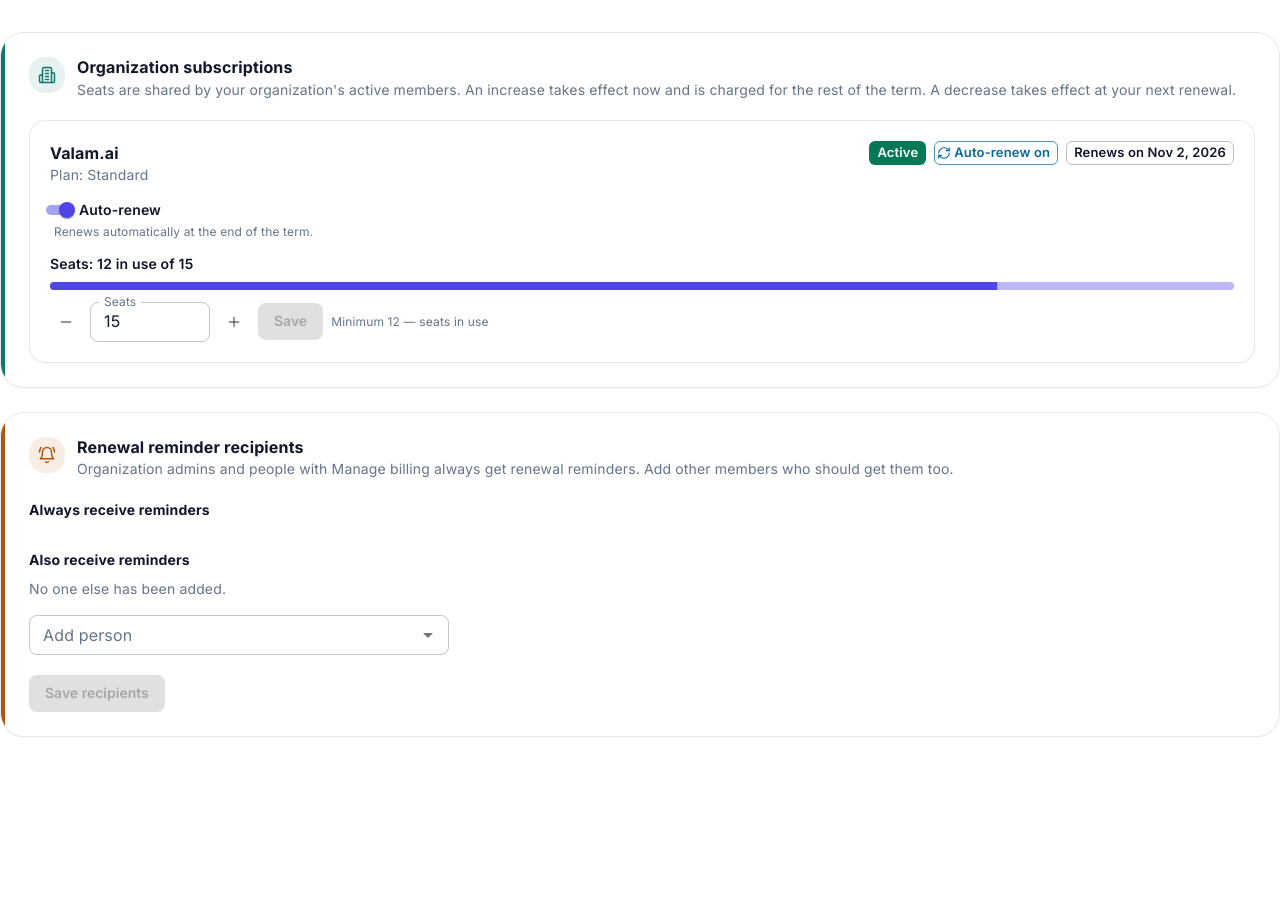
Test: OrganizationSubscriptionsSection › shows seats in use and an estimate for an increase, then the result with an invoice link
Expected: the text "Seats: 12 in use of 15" is shown, top-left (50, 254), bottom-right (193, 272)
Expected: the text "Auto-renew on" is shown, top-left (947, 143), bottom-right (1057, 163)
What coordinates should you click on to do the following:
click the button named "Add a seat"
I would click on:
 (234, 322)
Its box is top-left (218, 306), bottom-right (250, 338).
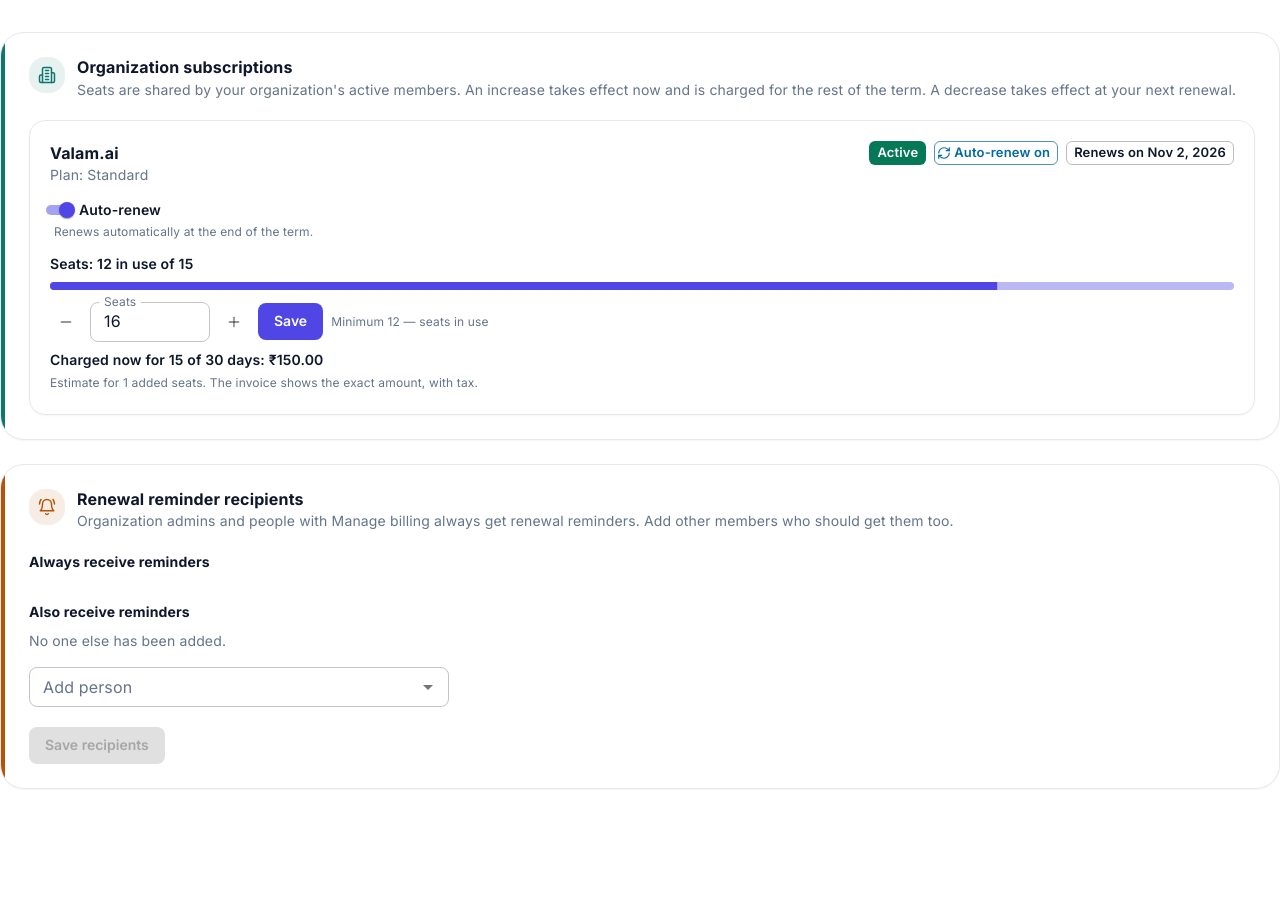
What coordinates should you click on to do the following:
click the button named "Add a seat"
I would click on:
 (234, 322)
Its box is top-left (218, 306), bottom-right (250, 338).
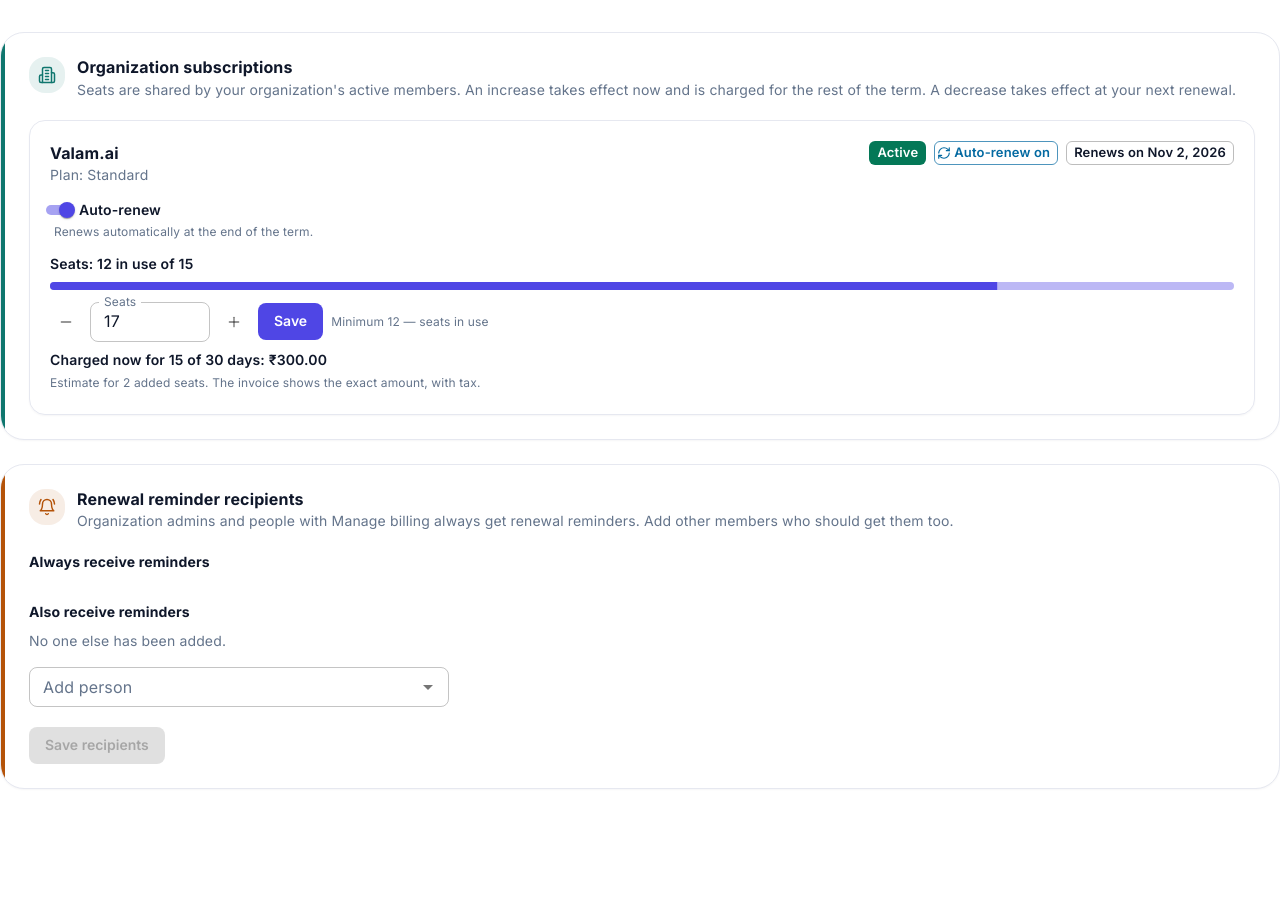
Expected: the text "Charged now for 15 of 30 days: ₹300.00" is shown, top-left (50, 350), bottom-right (327, 368)
What coordinates should you click on to do the following:
click the button "Save"
I would click on:
 (291, 322)
Its box is top-left (258, 303), bottom-right (323, 340).
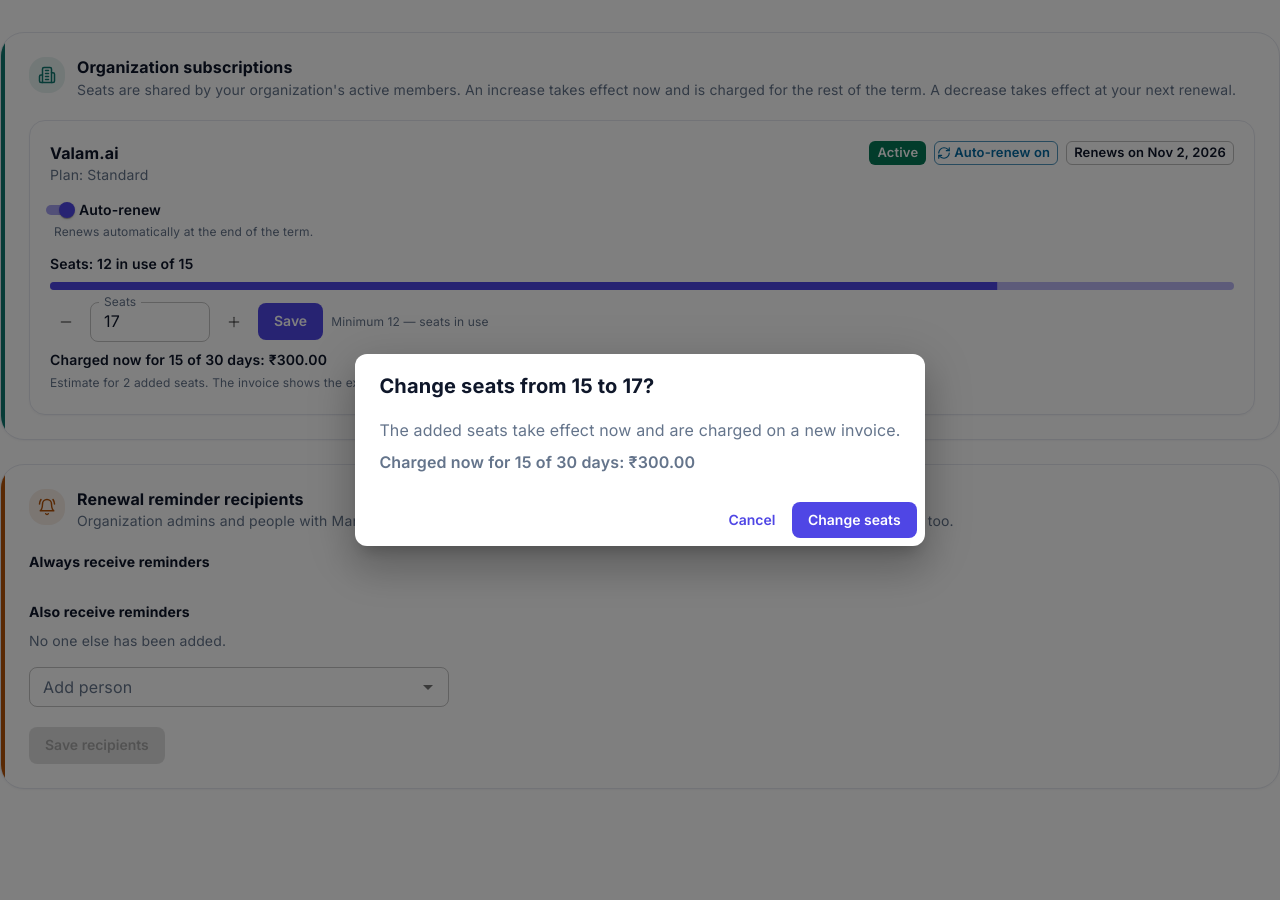
Expected: the text "Charged now for 15 of 30 days: ₹300.00" is shown, top-left (379, 452), bottom-right (695, 472)
What coordinates should you click on to do the following:
click the button "Change seats"
I would click on:
 (854, 520)
Its box is top-left (792, 502), bottom-right (917, 538).
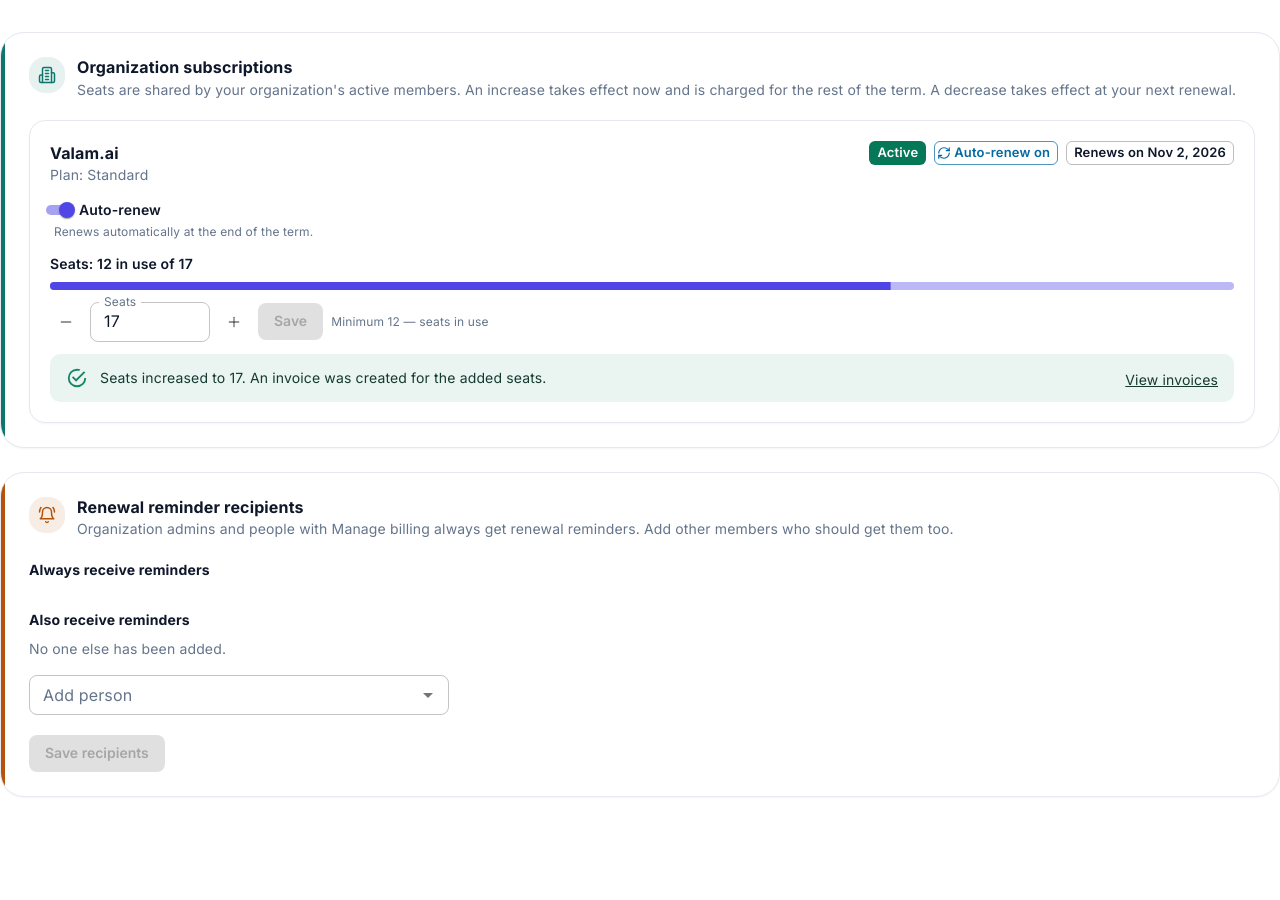
Expected: the text "Seats increased to 17. An invoice was created for the added seats." is shown, top-left (100, 368), bottom-right (546, 386)
